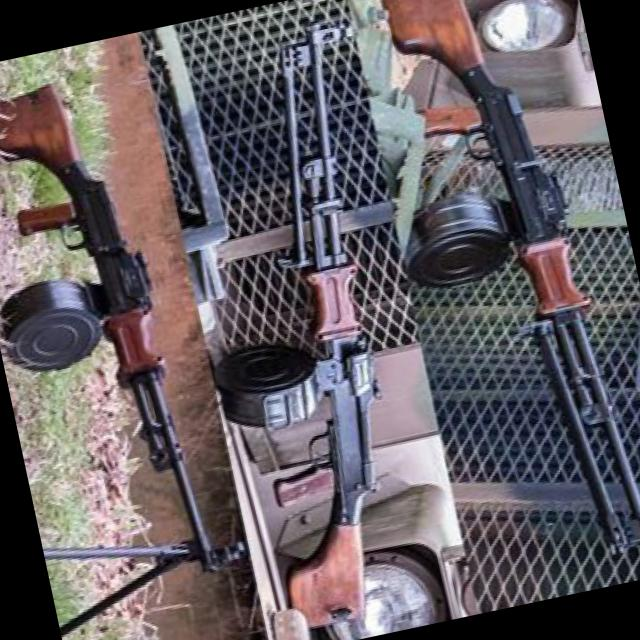long weapon: (139, 7, 459, 639), (353, 0, 639, 605), (0, 45, 252, 638)
